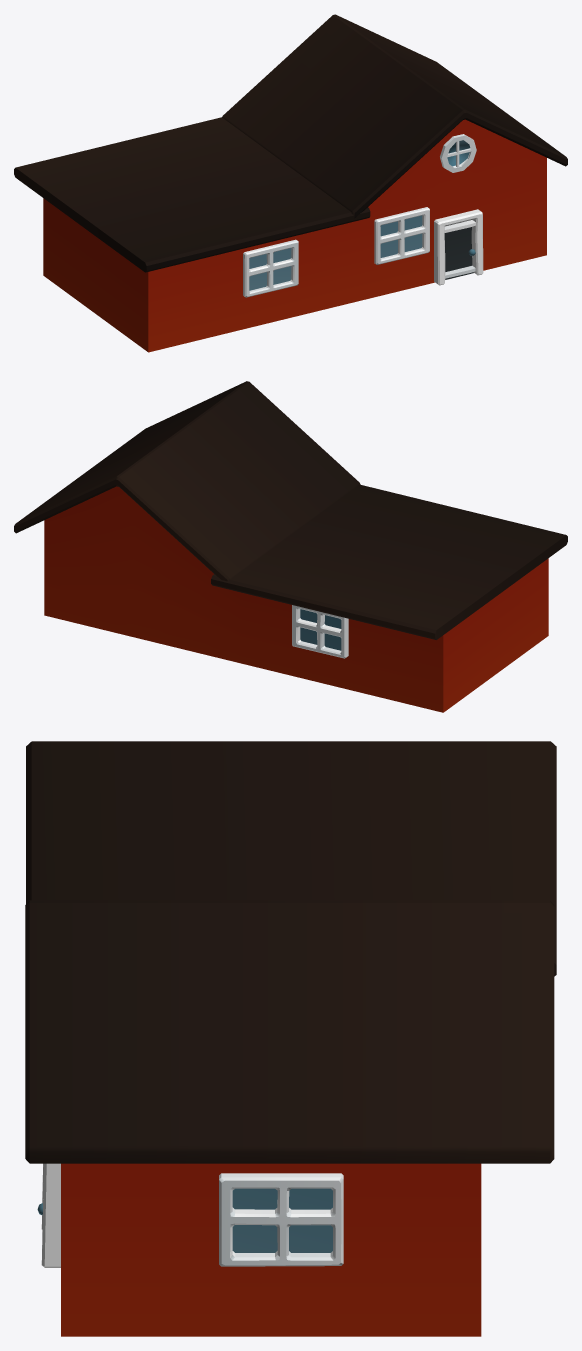
The model's file is HouseMid.fbx.
3 renders of one model, top to bottom at view 1: azimuth 30°, elevation 25°; view 2: azimuth 150°, elevation 25°; view 3: azimuth 270°, elevation 25°, orthographic. The views are drawn at different scales.
Visible parts, largest first — view 1: HouseMid_LOD0; view 2: HouseMid_LOD0; view 3: HouseMid_LOD0.
Boxes of the visible parts, x1=… form: HouseMid_LOD0: x1=14, y1=14, x2=567, y2=352; HouseMid_LOD0: x1=14, y1=381, x2=567, y2=712; HouseMid_LOD0: x1=25, y1=741, x2=556, y2=1336.
Size of what is drawn, in the model's own units: 689 by 270 by 375.
